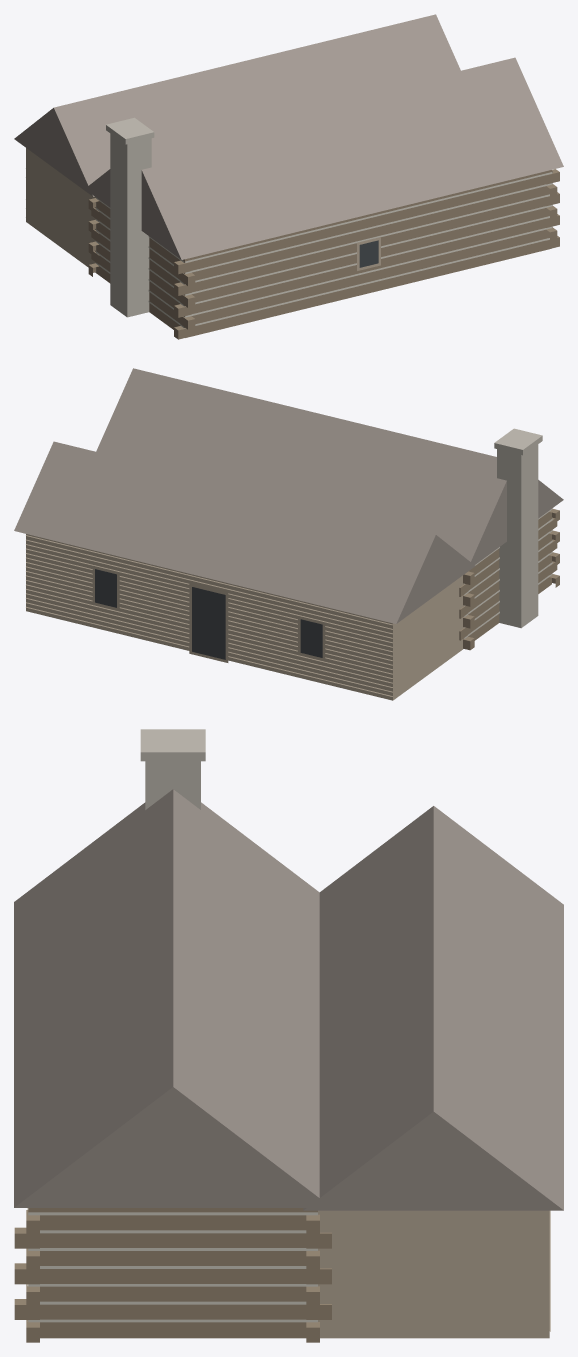
File: mansion_house__log_frame_1833.glb
3 views of the same model, one above another, from view 1: azimuth 30°, elevation 25°; view 2: azimuth 150°, elevation 25°; view 3: azimuth 270°, elevation 25° (orthographic). The views are drawn at different scales.
Parts seen in each view (by area): view 1: mansion_house__log_frame_1833; view 2: mansion_house__log_frame_1833; view 3: mansion_house__log_frame_1833.
Part boxes in pixels (bbox=[...]): mansion_house__log_frame_1833: bbox=[14, 14, 563, 339]; mansion_house__log_frame_1833: bbox=[14, 368, 563, 700]; mansion_house__log_frame_1833: bbox=[14, 729, 563, 1342].
Bounding box in the file's own units: 13.07 × 5.69 × 9.5.
